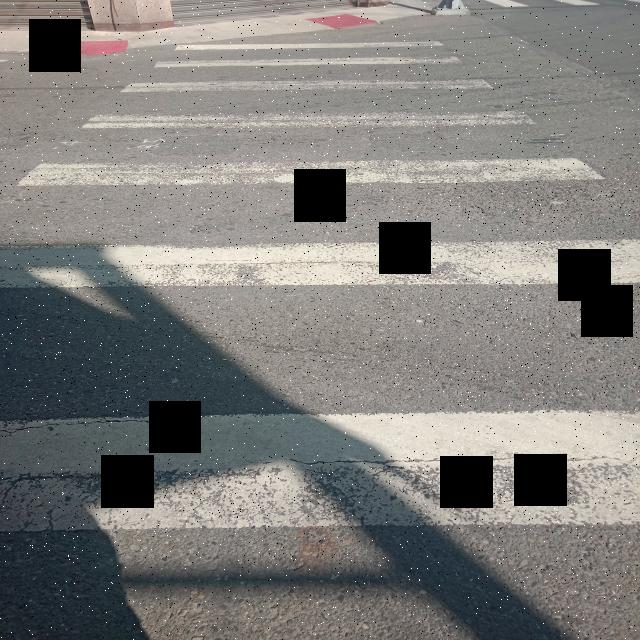zebra crossing: (13, 47, 633, 528), (474, 0, 640, 10)
